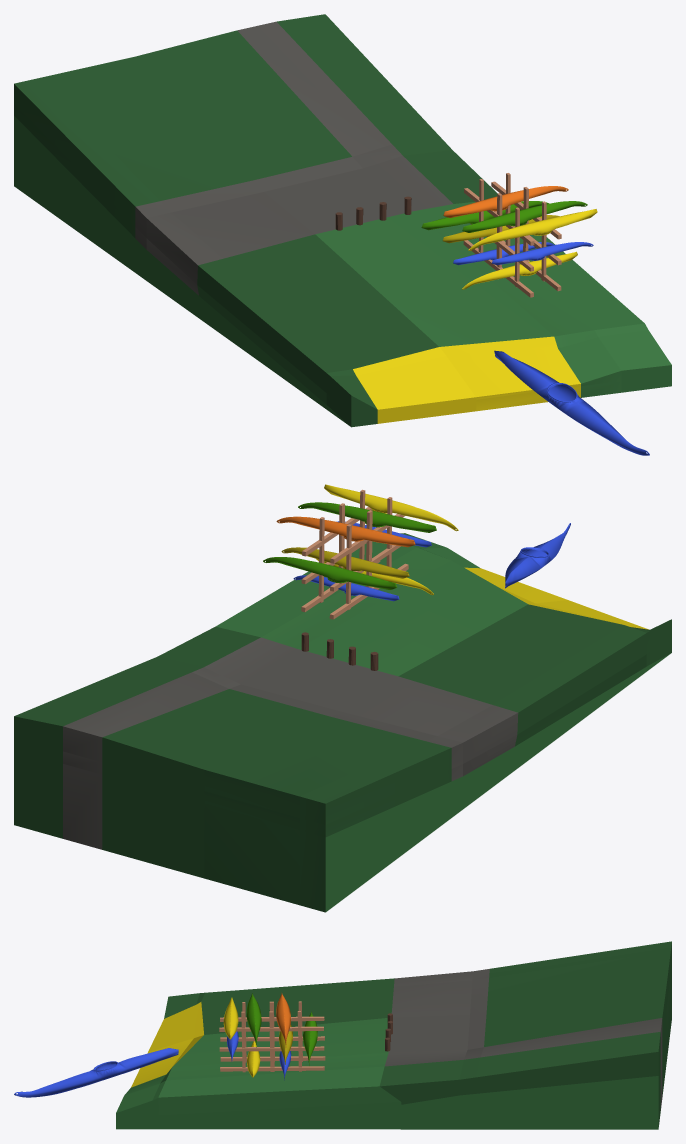
The model's file is isolittlemagothypark.glb.
3 views of the same model, one above another, from view 1: azimuth 30°, elevation 25°; view 2: azimuth 150°, elevation 25°; view 3: azimuth 270°, elevation 25° (orthographic). The views are drawn at different scales.
Visible parts, largest first — view 1: little_magothy_kayak_rack.001_Cylinder.003; view 2: little_magothy_kayak_rack.001_Cylinder.003; view 3: little_magothy_kayak_rack.001_Cylinder.003.
Boxes of the visible parts, left/top/right/bottom form: little_magothy_kayak_rack.001_Cylinder.003: left=14, top=14, right=671, bottom=455; little_magothy_kayak_rack.001_Cylinder.003: left=14, top=484, right=671, bottom=912; little_magothy_kayak_rack.001_Cylinder.003: left=14, top=941, right=671, bottom=1129.
Size of the model in its own units: 0.4142 by 0.1805 by 1.03.
